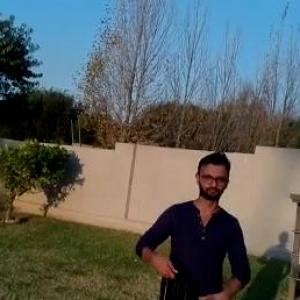follow: (129, 149, 255, 299)
